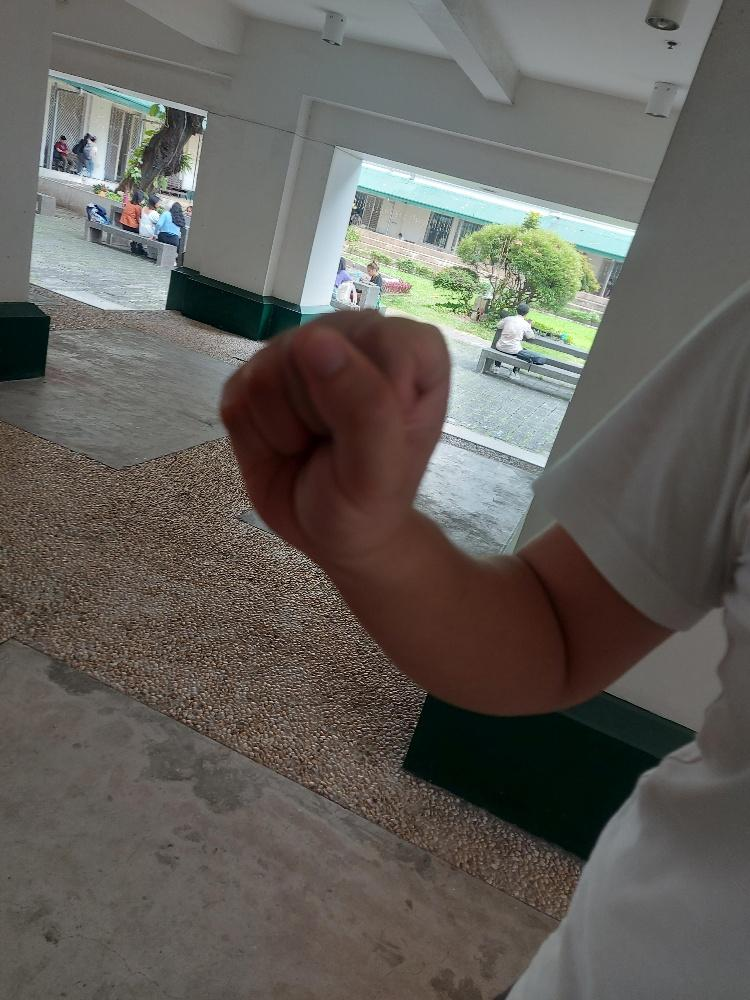s: (213, 304, 453, 559)
